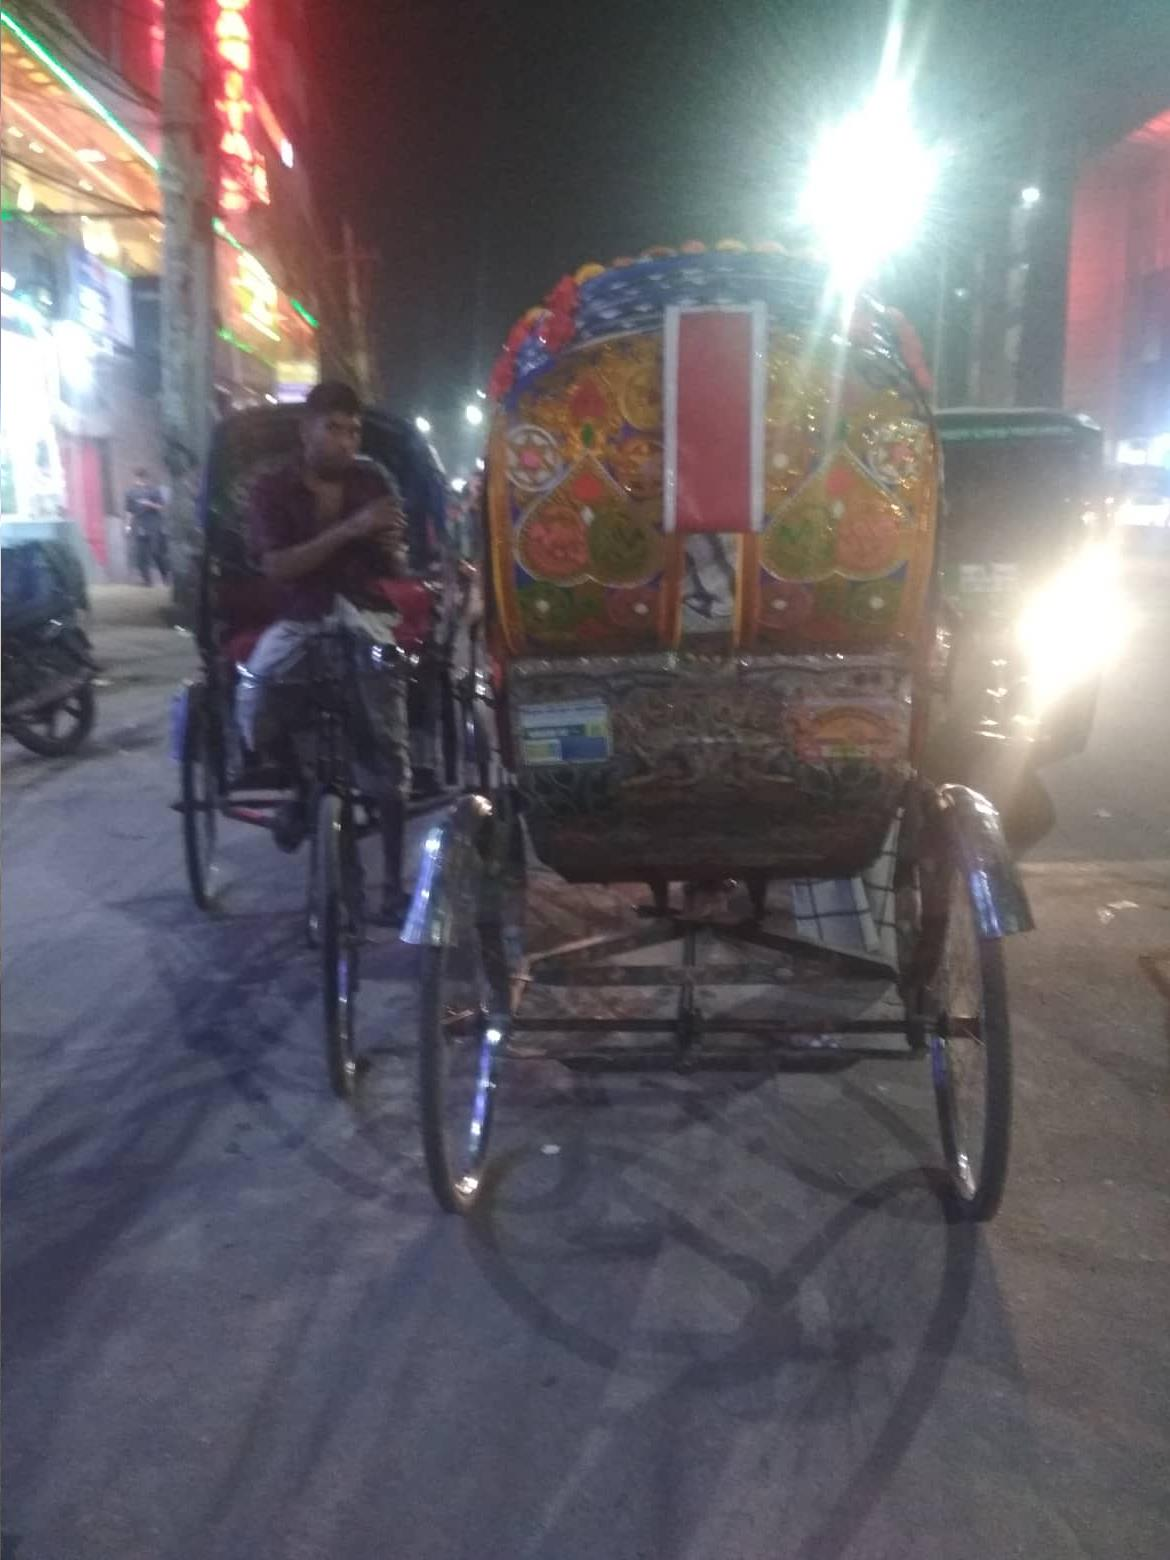Rickshaw: (422, 197, 1034, 1268), (184, 369, 516, 1158)
